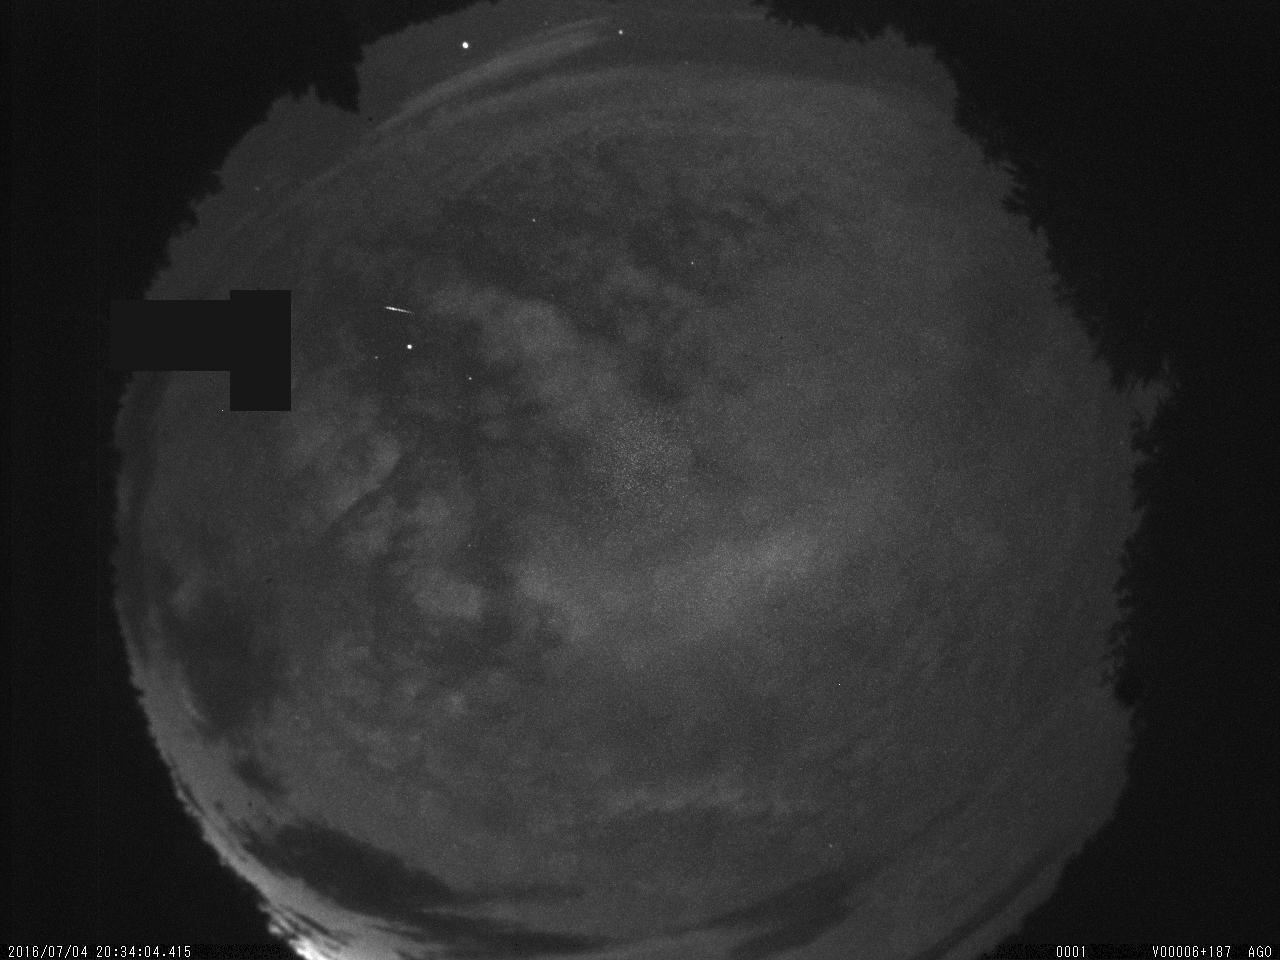Meteor: (379, 299, 417, 322)
